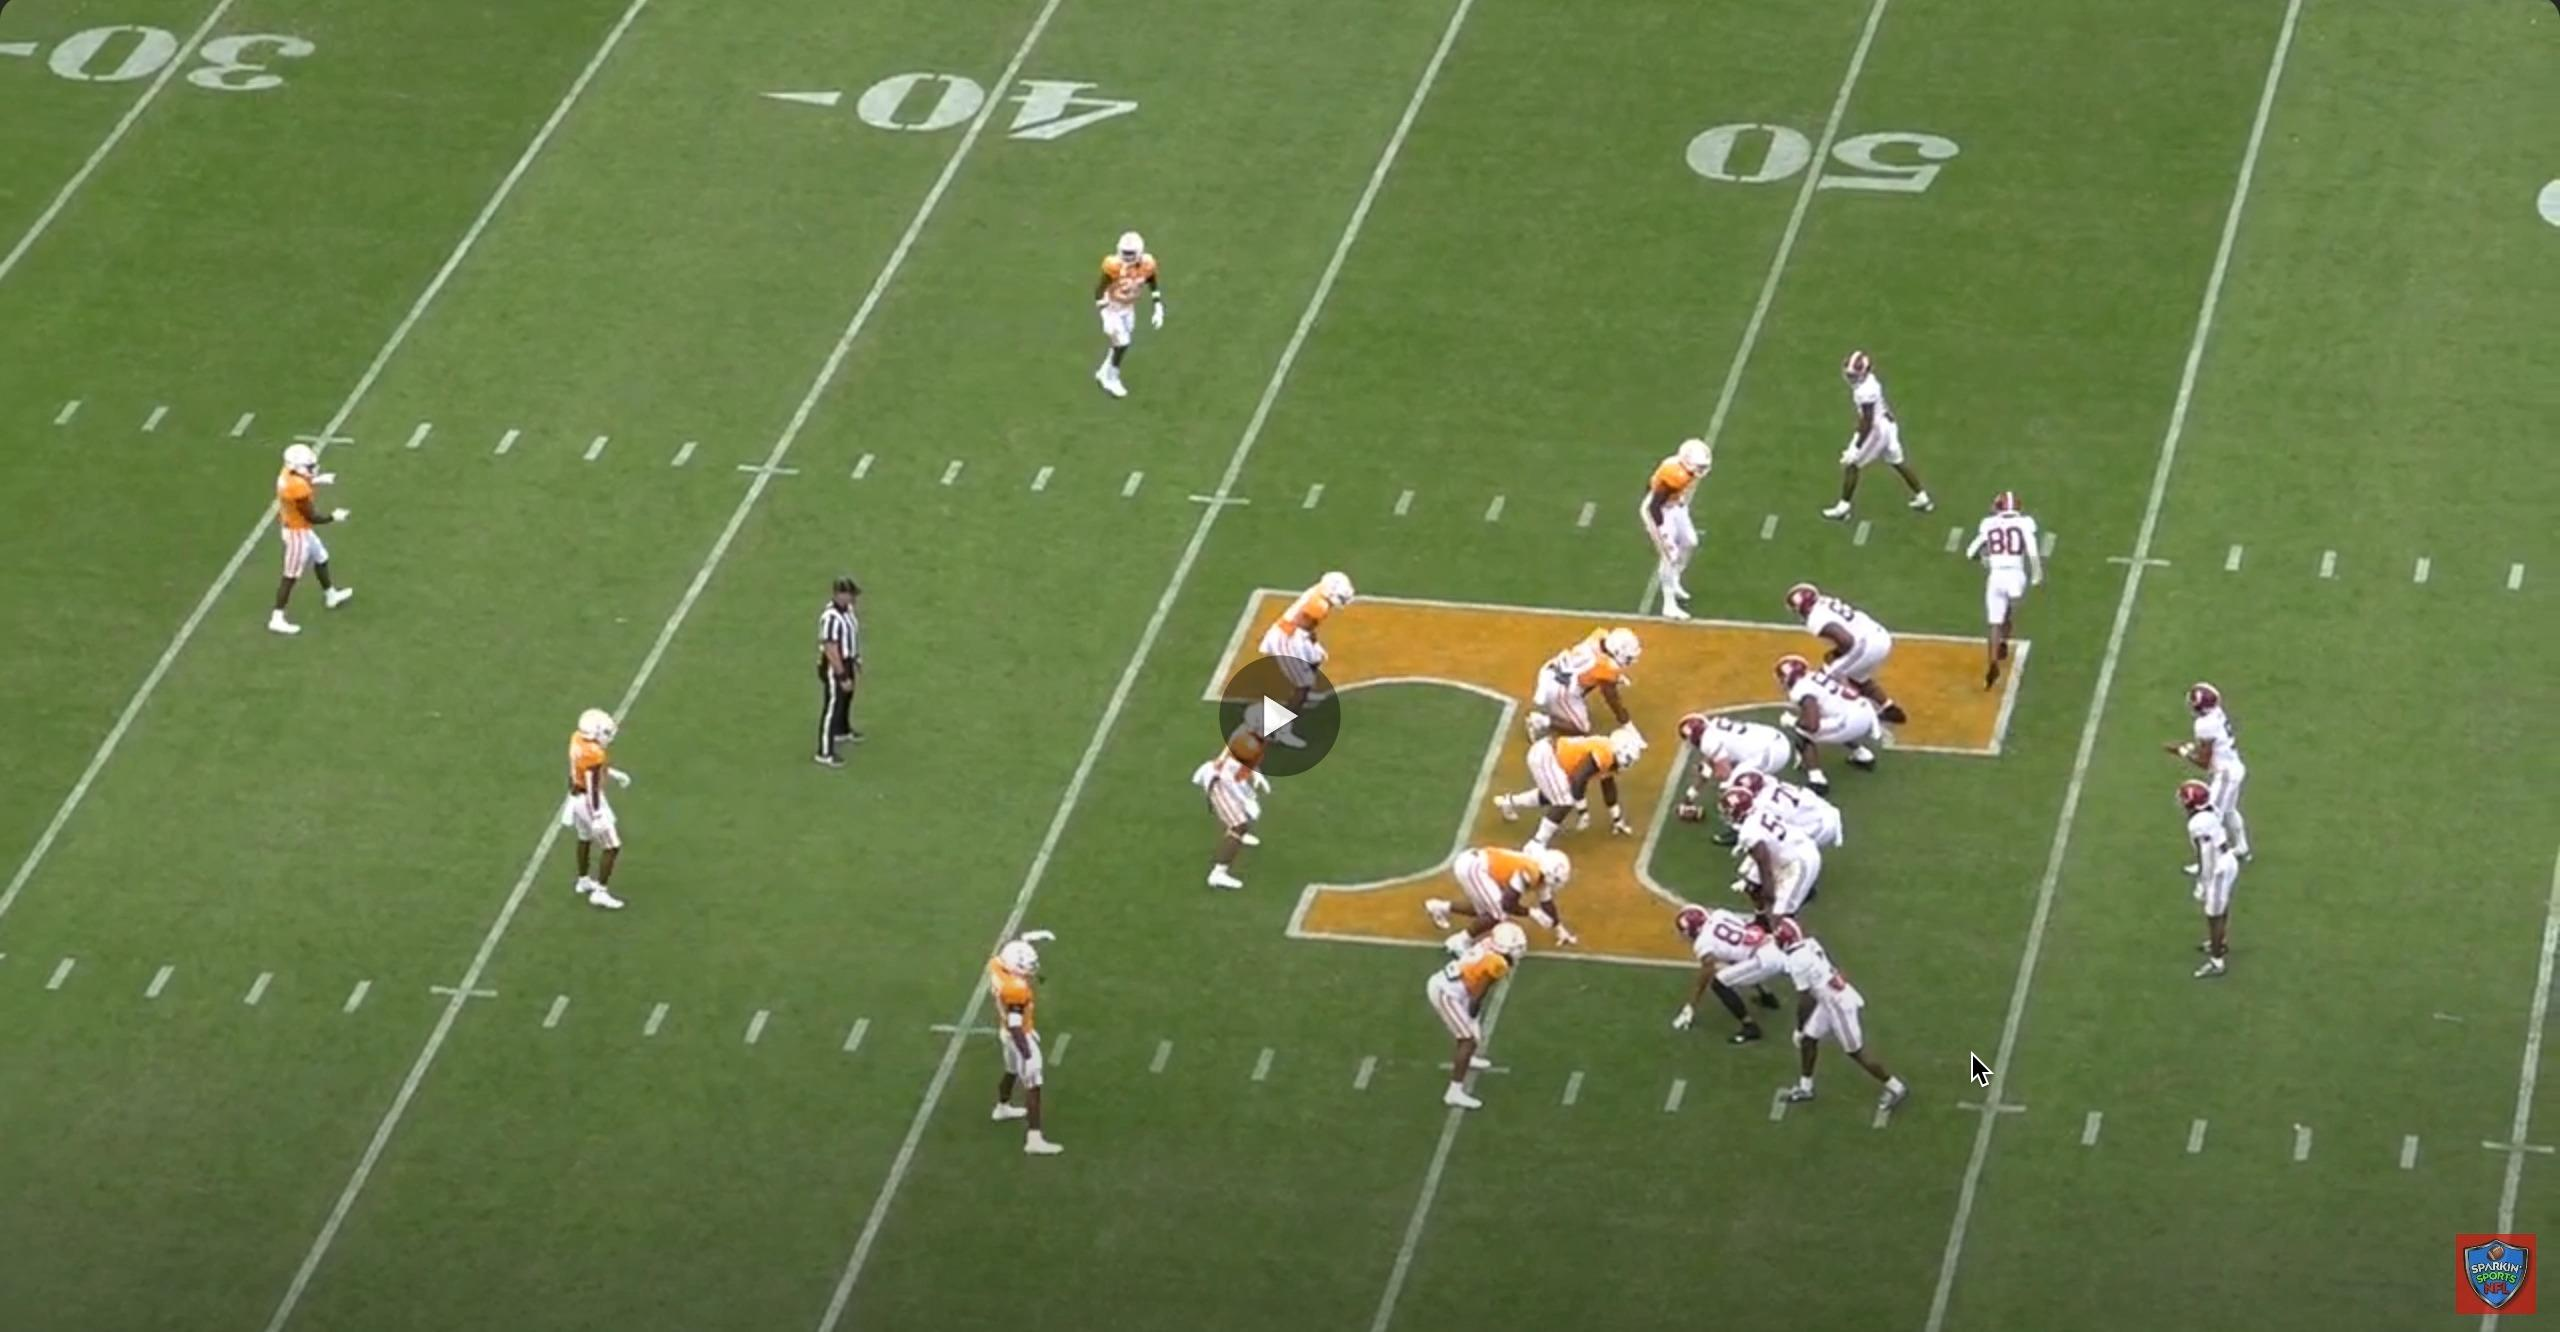defense: (1182, 685, 1288, 894), (1422, 917, 1532, 1117), (257, 430, 357, 638), (545, 696, 632, 921), (1497, 726, 1656, 848), (1256, 569, 1356, 760), (975, 931, 1057, 1161), (1429, 838, 1586, 949), (1639, 435, 1720, 625), (1514, 625, 1642, 743), (1087, 227, 1167, 406)
oline: (1783, 582, 1908, 738), (1710, 790, 1822, 943), (1773, 655, 1890, 794), (1674, 718, 1805, 833), (1727, 763, 1849, 867)
qb: (2167, 679, 2257, 873)
ref: (799, 577, 874, 782)
skill: (1759, 919, 1917, 1126), (1815, 350, 1937, 530), (1669, 907, 1800, 1054), (1962, 493, 2050, 697), (2171, 782, 2252, 988)
